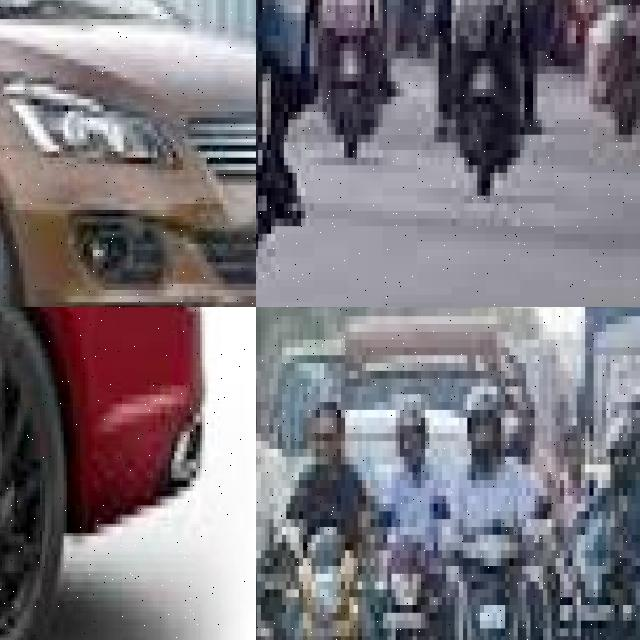bike: (438, 0, 524, 211), (446, 503, 555, 640), (318, 0, 386, 173), (568, 480, 640, 640), (290, 503, 370, 640), (379, 519, 438, 640)
car: (0, 0, 256, 307), (0, 307, 223, 640)
